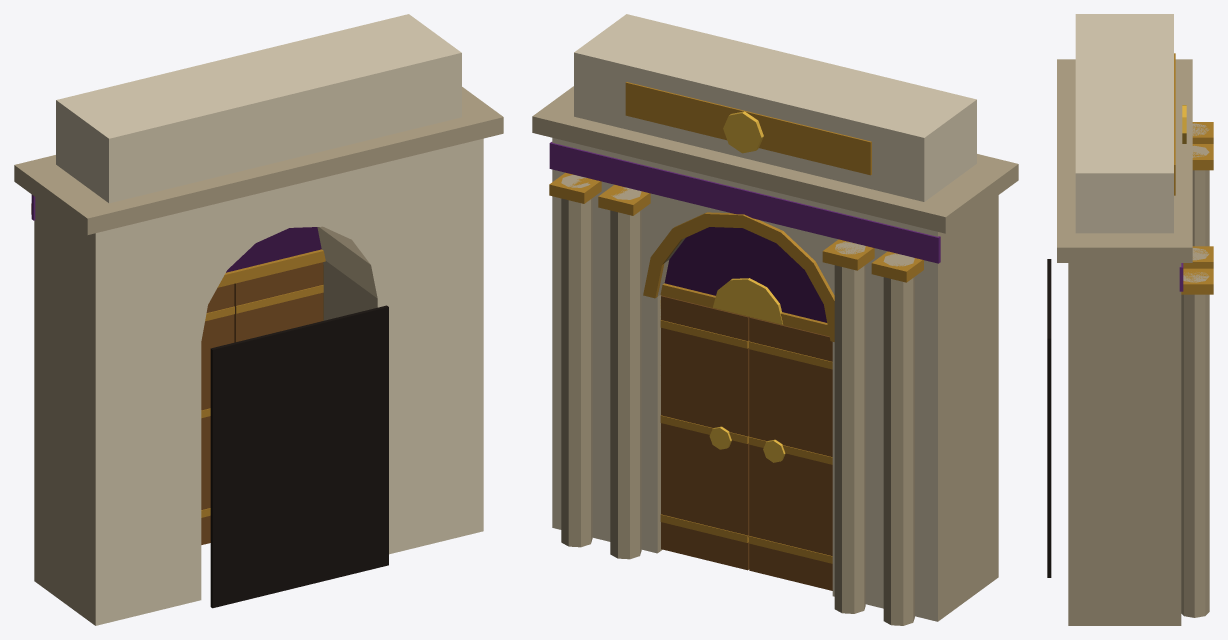
The model's file is SM_ImpGate.fbx.
The picture shows the model from 3 angles, left to right: view 1: azimuth 30°, elevation 25°; view 2: azimuth 150°, elevation 25°; view 3: azimuth 270°, elevation 25°; orthographic projection. The views are drawn at different scales.
Parts seen in each view (by area): view 1: SM_ImpGate_Frame, DoorL, DoorR; view 2: SM_ImpGate_Frame, DoorL, DoorR; view 3: SM_ImpGate_Frame.
Part boxes in pixels (left/top/right/bottom): SM_ImpGate_Frame: left=14, top=14, right=503, bottom=625; DoorL: left=234, top=262, right=323, bottom=342; DoorR: left=201, top=284, right=234, bottom=544; SM_ImpGate_Frame: left=532, top=14, right=1018, bottom=625; DoorL: left=660, top=295, right=749, bottom=570; DoorR: left=749, top=317, right=832, bottom=590; SM_ImpGate_Frame: left=1047, top=14, right=1213, bottom=625.
Bounding box in the file's own units: 11.8 × 4.4 × 13.
